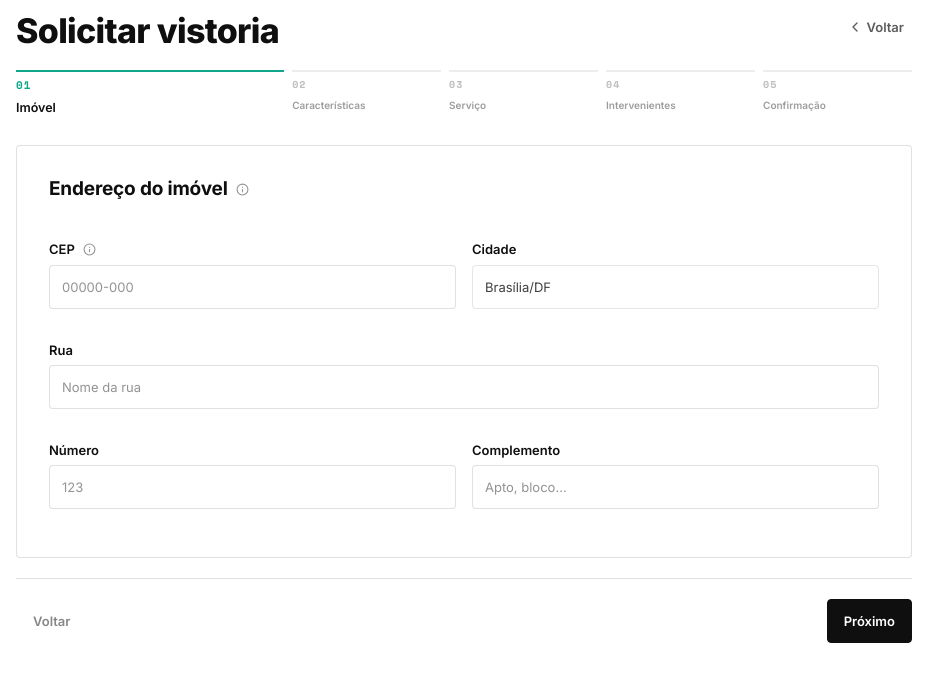
it: ClienteSolicitar (Página 4 — wizard de solicitação do Cliente B2C) › Passo 1 (endereço) — CEP fora da cidade do cliente › a CEP matching the cliente's own city does not block progression, and does not autofill complemento
Type "Rua das Flores" into the field labelled "Rua" at (464, 387), box 49,365 -> 879,409
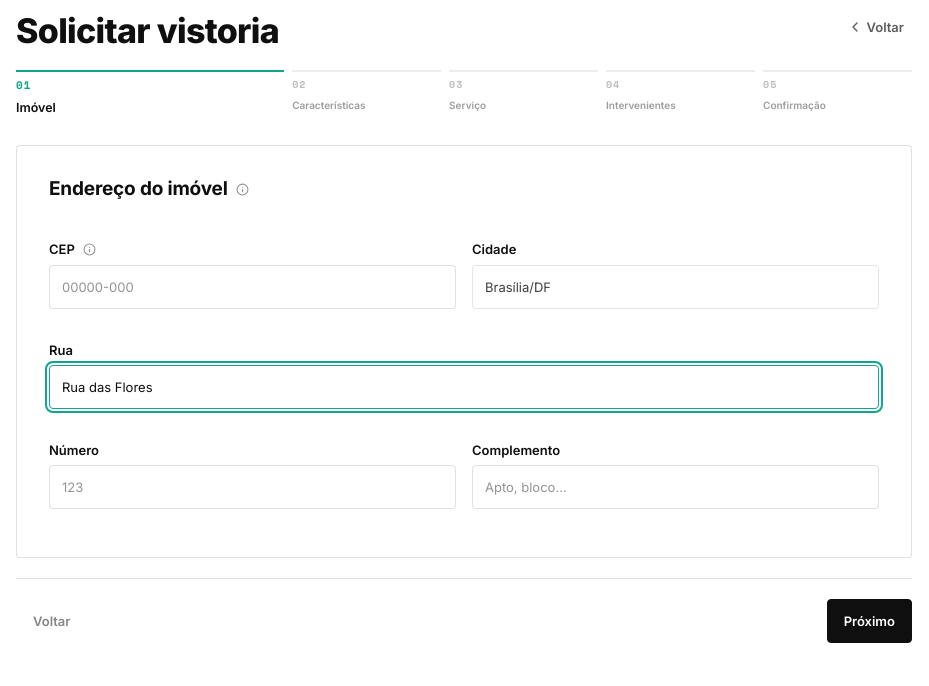
Type "70714520" into the field labelled "CEP" at (252, 287), box 49,265 -> 456,309
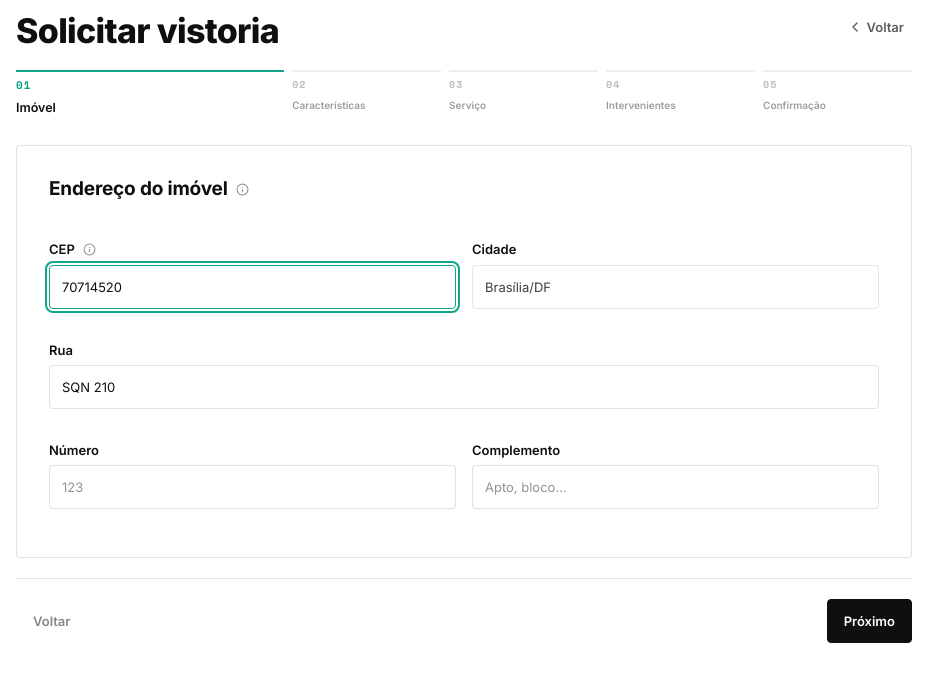
Expected: the field labelled "Complemento" is empty, 472,465 -> 879,509
Expected: the field labelled "Rua" holds "SQN 210", 49,365 -> 879,409
Click the button "Próximo" at (869, 621), box 827,599 -> 912,643
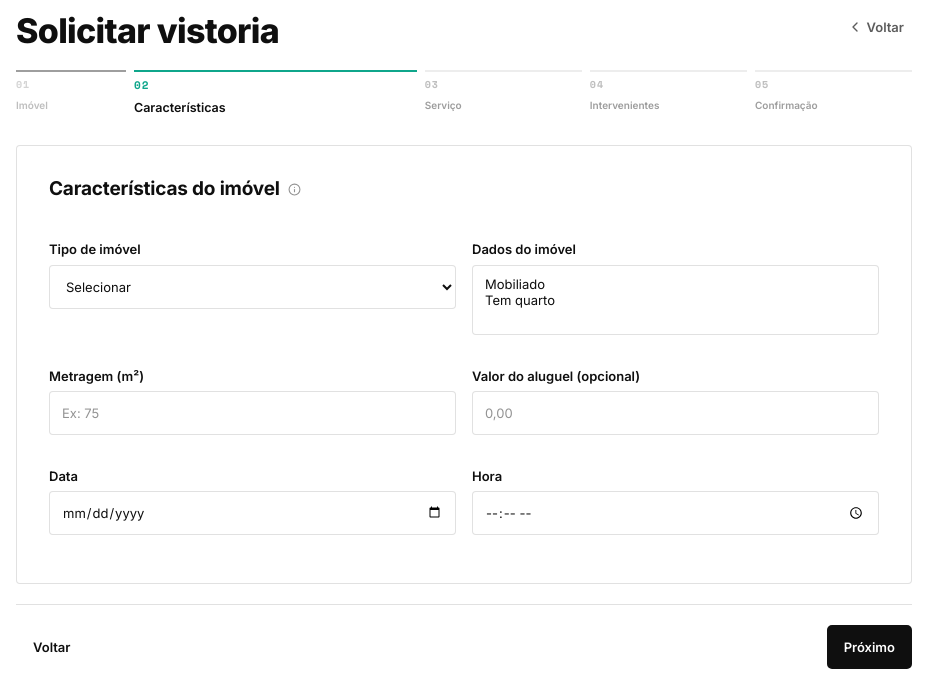
Expected: the heading "Características do imóvel" is shown, 49,178 -> 280,200
